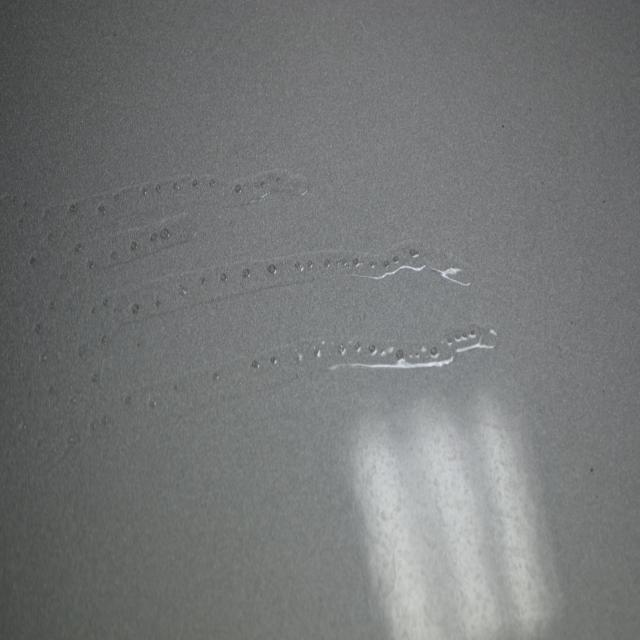runs: (0, 161, 501, 484)
